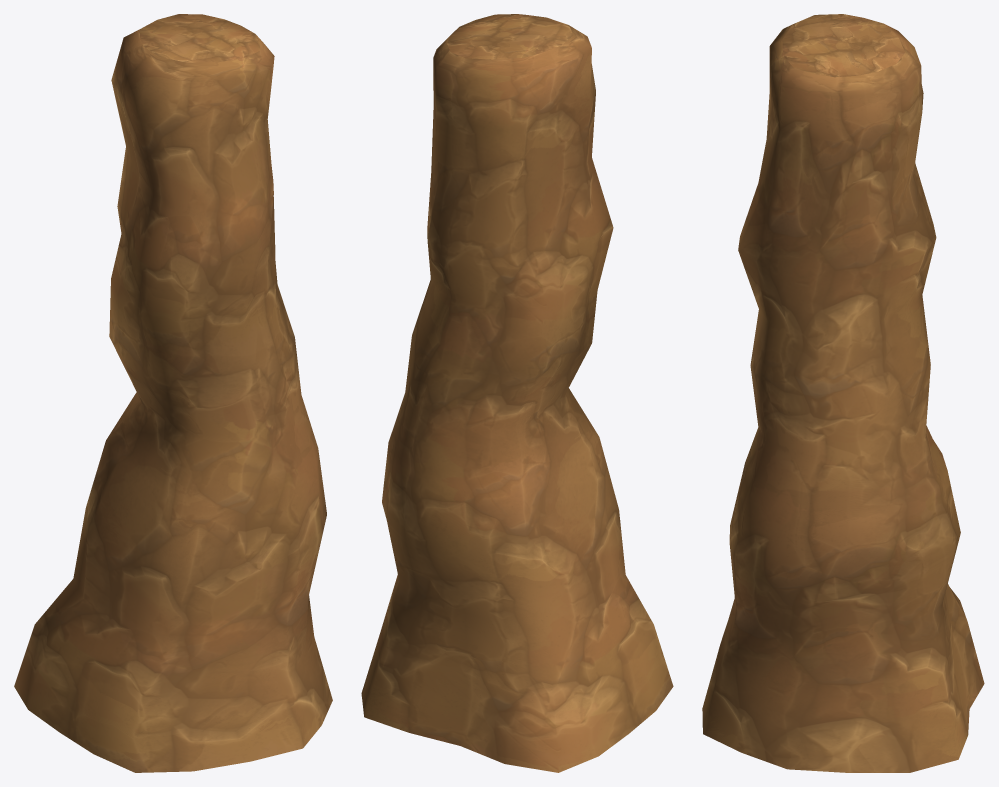
Rendered from RockPillar.glb.
3 renders of one model, left to right at view 1: azimuth 30°, elevation 25°; view 2: azimuth 150°, elevation 25°; view 3: azimuth 270°, elevation 25°, orthographic.
Parts seen in each view (by area): view 1: RockPillar; view 2: RockPillar; view 3: RockPillar.
Part boxes in pixels (x1,y1,x2,y2): RockPillar: (14, 14, 332, 772); RockPillar: (361, 14, 673, 772); RockPillar: (702, 14, 984, 772).
Size of the model in its own units: 3.59 by 9.4 by 3.56.
1 material, 1 textured.
